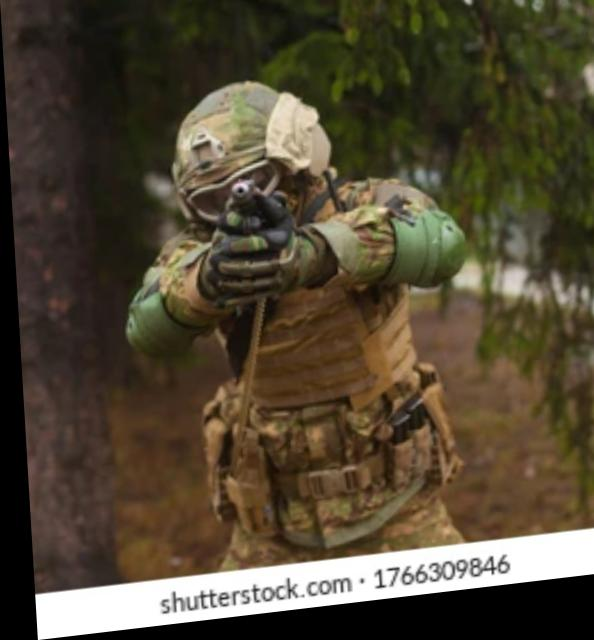other: (111, 67, 454, 585)
